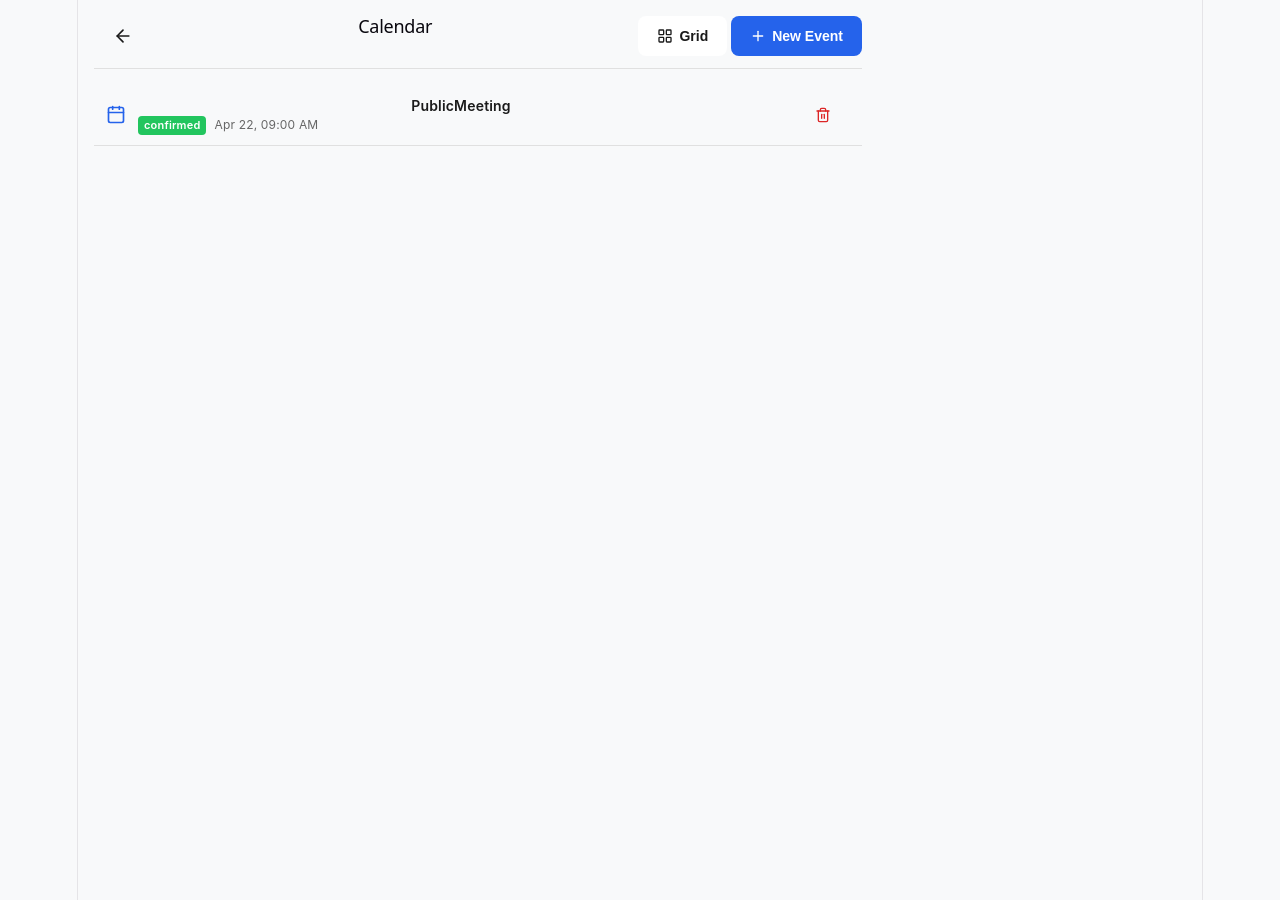
Scenario: CalendarManager › shows the share URL and Copy button when public_enabled is true
Click the text "PublicMeeting". click: (461, 106)
box: [411,97,511,114]
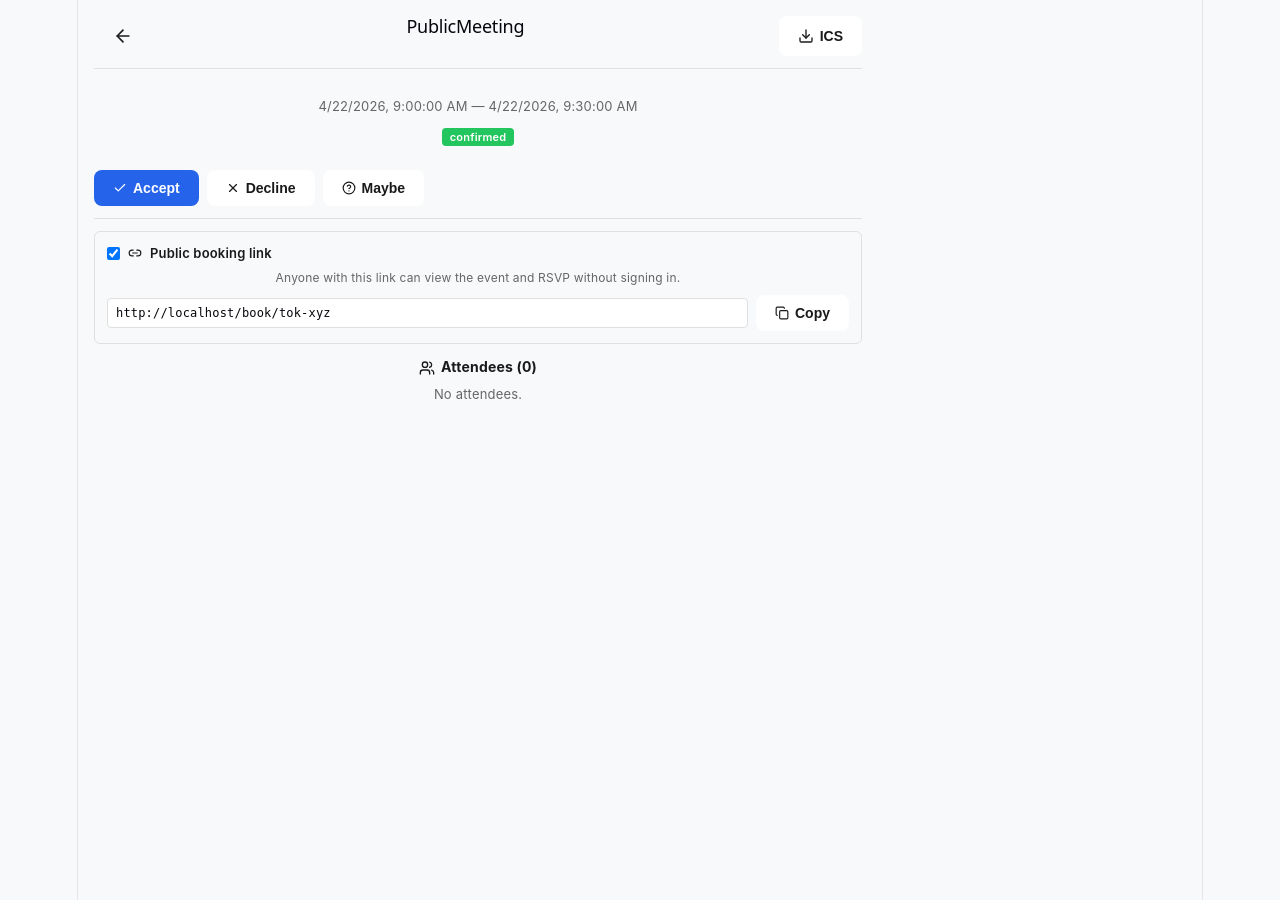
Now the text with test id "public-share-url" shows "/book/tok-xyz", box [116,306,331,320]
Now the button with test id "public-share-copy" is shown, box [756,295,849,331]
